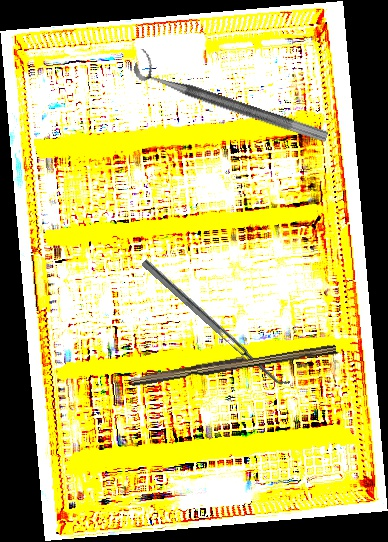Fixation Ring: (130, 48, 335, 144)
Scalpel Handle: (130, 338, 337, 390)
Spatula Surgical: (141, 253, 292, 392)
